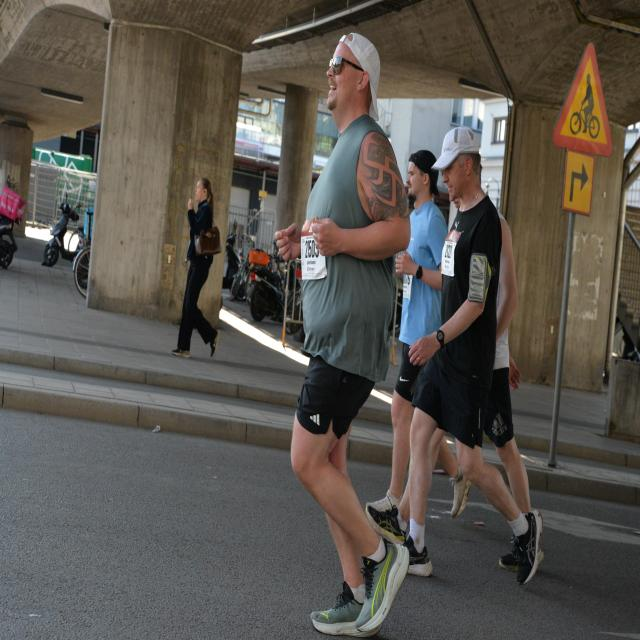runner-detect: (269, 25, 421, 637), (418, 125, 544, 612)
